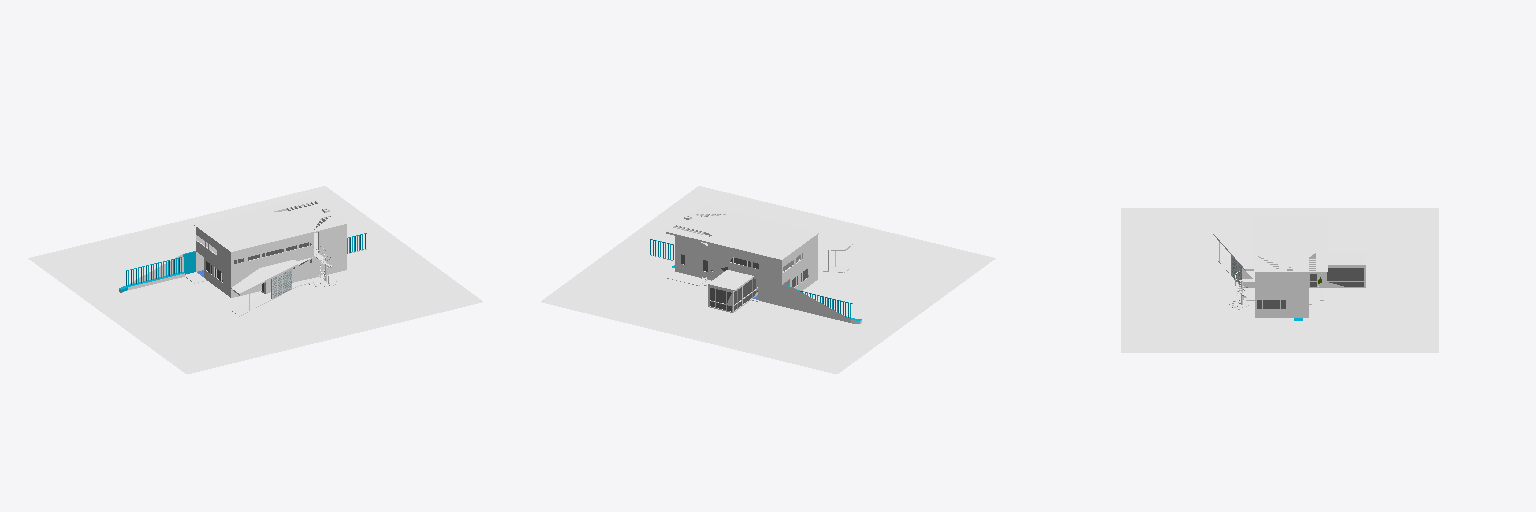
3 views of the same model, side by side, from view 1: azimuth 30°, elevation 25°; view 2: azimuth 150°, elevation 25°; view 3: azimuth 270°, elevation 25° (orthographic).
Visible parts, largest first — view 1: Mesh383 Model, Mesh384 Model, Mesh1 Group1 Model; view 2: Mesh383 Model, Mesh384 Model, Mesh1 Group1 Model; view 3: Mesh383 Model, Mesh384 Model, Mesh1 Group1 Model.
Part boxes in pixels (left/top/right/bottom): Mesh383 Model: left=28, top=186, right=482, bottom=373; Mesh384 Model: left=119, top=219, right=366, bottom=316; Mesh1 Group1 Model: left=194, top=197, right=347, bottom=253; Mesh383 Model: left=541, top=186, right=995, bottom=373; Mesh384 Model: left=649, top=214, right=861, bottom=323; Mesh1 Group1 Model: left=665, top=205, right=818, bottom=261; Mesh383 Model: left=1121, top=208, right=1438, bottom=352; Mesh384 Model: left=1212, top=232, right=1365, bottom=335; Mesh1 Group1 Model: left=1254, top=215, right=1327, bottom=273.
Bounding box in the file's own units: 1525 × 241 × 1412.
Materials: 10 (1 with a texture image).